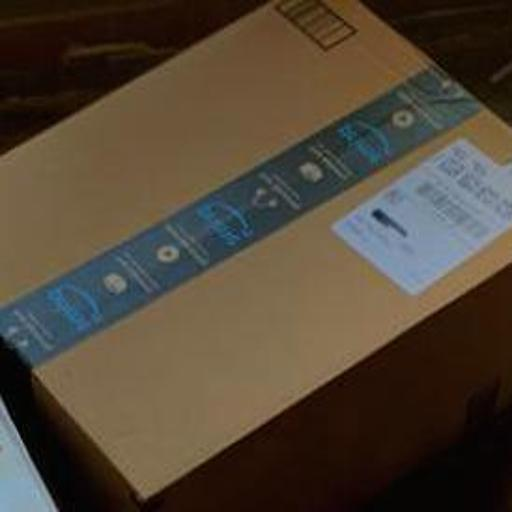Amazon: (0, 4, 512, 487)
